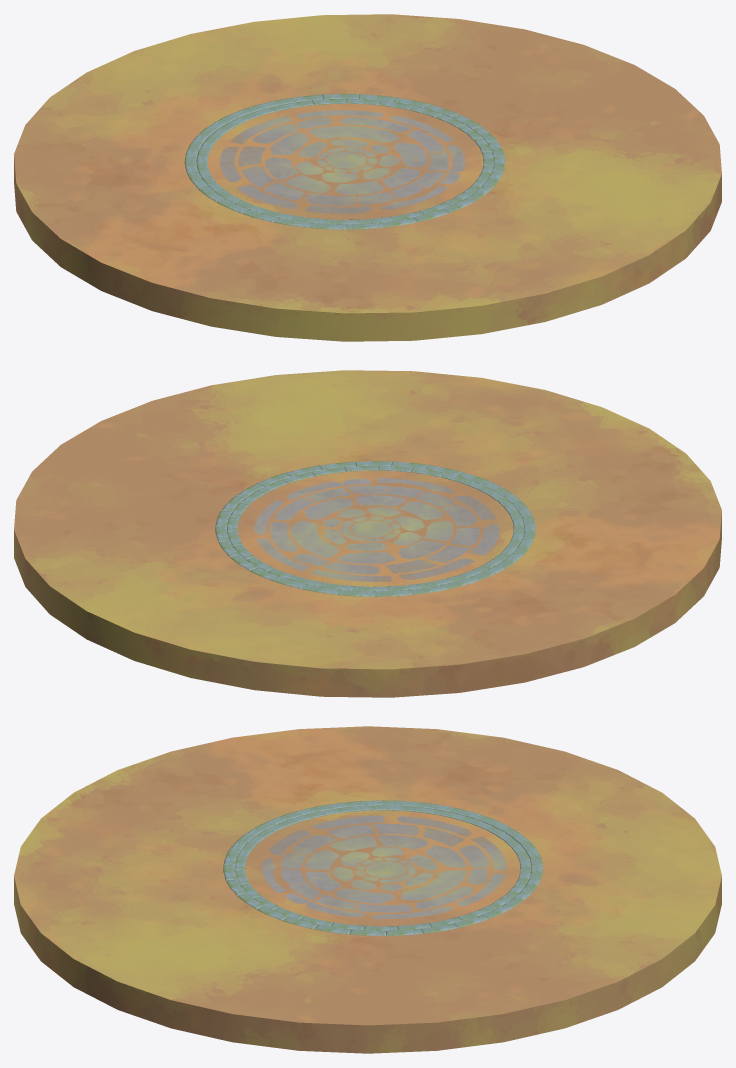
Rendered from Arene_blender.fbx.
3 renders of one model, top to bottom at view 1: azimuth 30°, elevation 25°; view 2: azimuth 150°, elevation 25°; view 3: azimuth 270°, elevation 25°, orthographic.
Parts seen in each view (by area): view 1: Circle.004; view 2: Circle.004; view 3: Circle.004.
Boxes of the visible parts, box(x1,y1,x2,y2) form: Circle.004: box(14, 14, 721, 341); Circle.004: box(14, 370, 721, 697); Circle.004: box(14, 726, 721, 1053).
Bounding box in the file's own units: 57.75 × 2.62 × 57.75.
